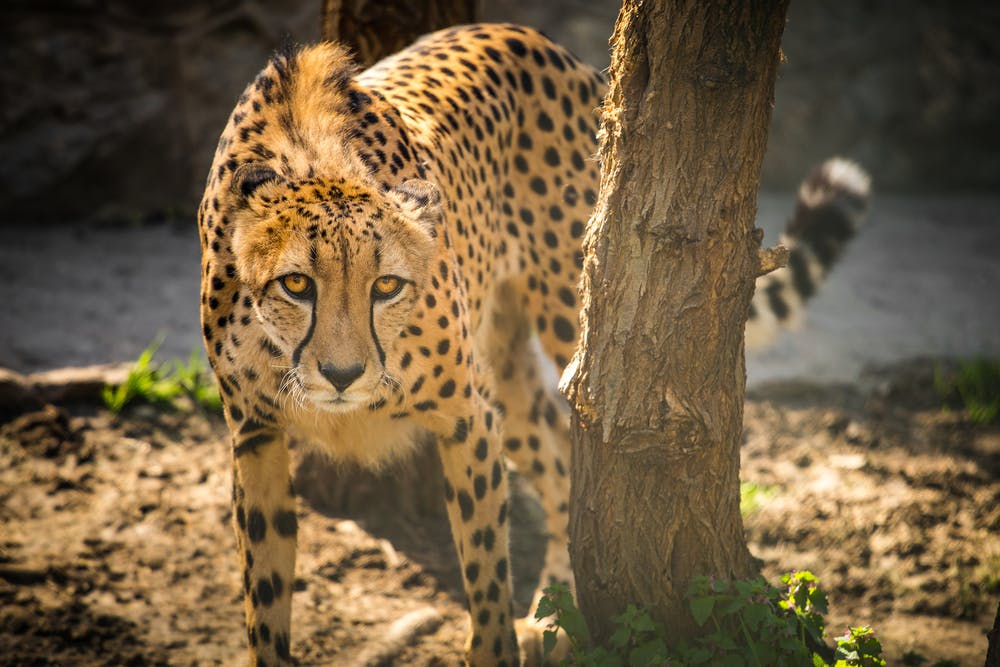cheetah: (214, 156, 466, 428)
